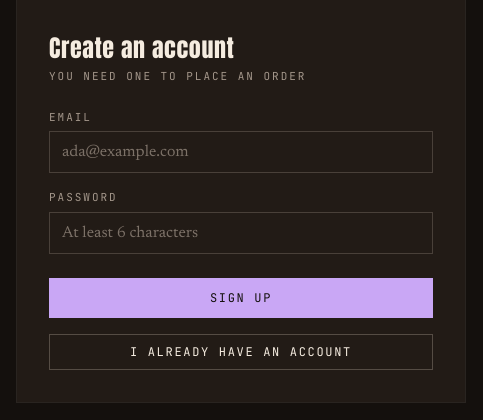
<AuthPage /> › switches between sign up and sign in
The image size is (483, 420).
Expected: the heading "Create an account" is shown, [49, 30, 234, 66]
Click the button "I already have an account". click: (241, 352)
box: [49, 334, 433, 370]
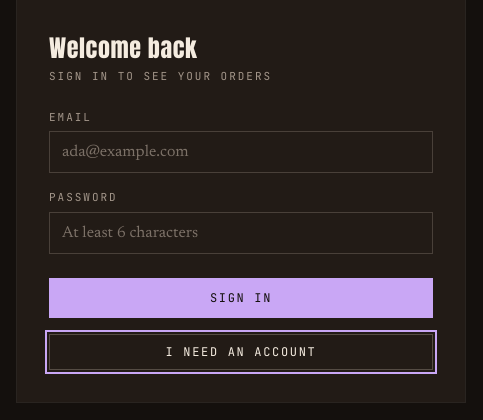
Expected: the heading "Welcome back" is shown, [49, 30, 197, 66]
